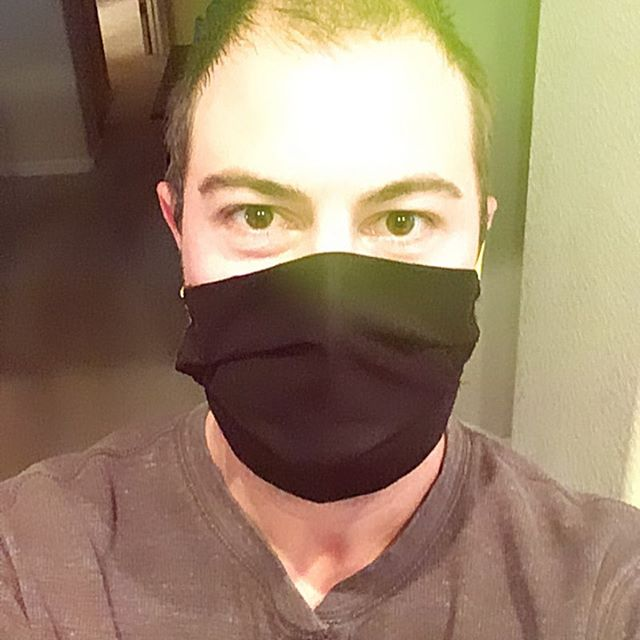homemade: (172, 256, 470, 496)
